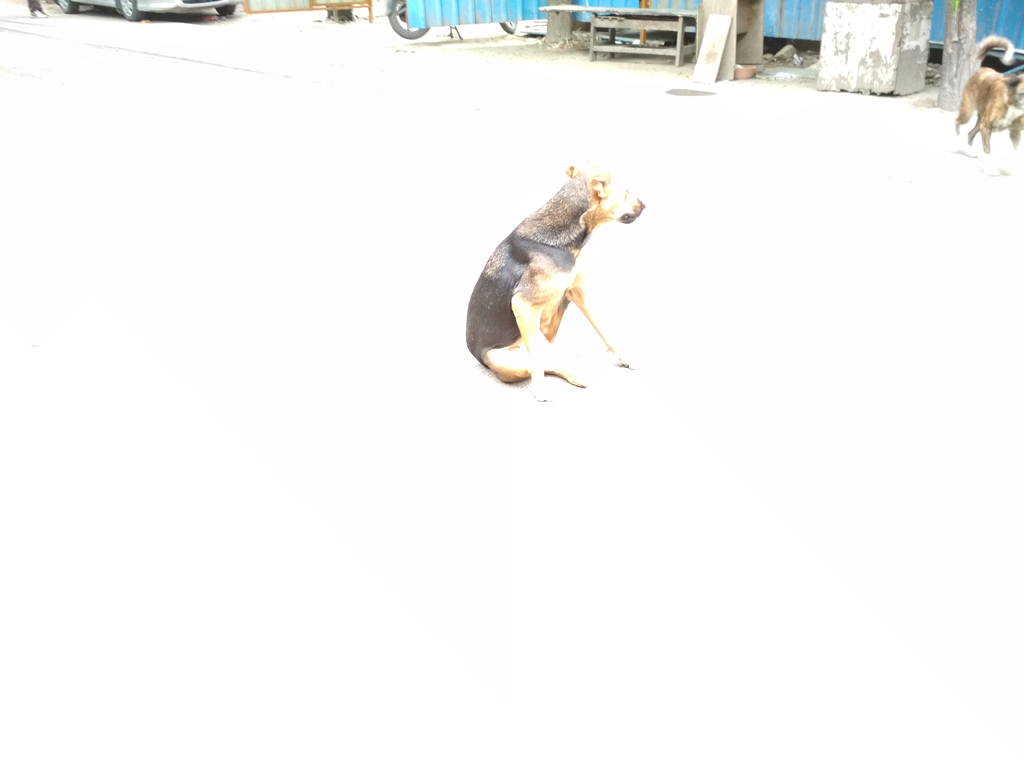dog: (466, 165, 647, 402), (948, 36, 1024, 177)
